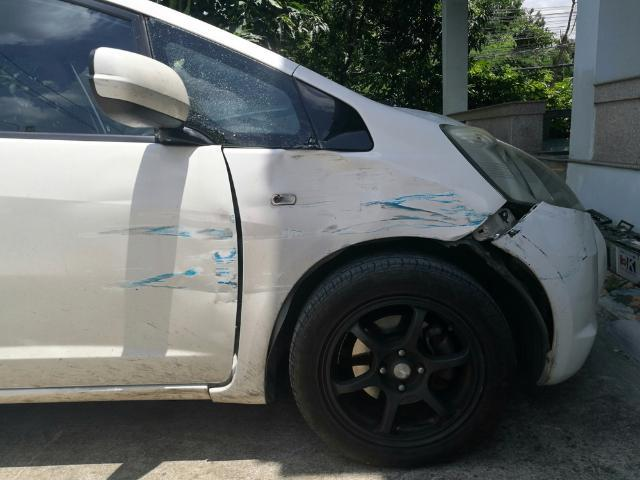dent: (264, 149, 489, 262)
dislocated part: (458, 200, 598, 385)
glass shatter: (143, 15, 320, 149)
scratch: (89, 202, 237, 307), (498, 222, 596, 281)
